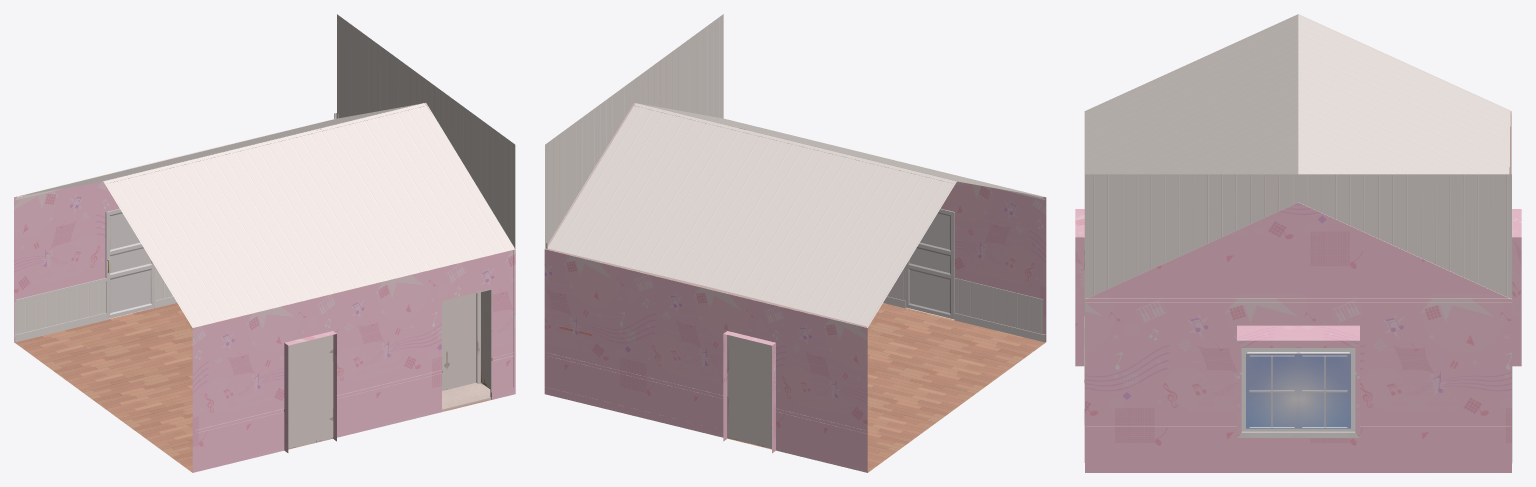
Rendered from houres_low_3.fbx.
3 views of the same model, side by side, from view 1: azimuth 30°, elevation 25°; view 2: azimuth 150°, elevation 25°; view 3: azimuth 270°, elevation 25° (orthographic). The views are drawn at different scales.
Visible parts, largest first — view 1: BedroomSleepClocks2; view 2: BedroomSleepClocks2; view 3: BedroomSleepClocks2.
Part boxes in pixels (left/top/right/bottom): BedroomSleepClocks2: left=14, top=14, right=515, bottom=472; BedroomSleepClocks2: left=544, top=14, right=1046, bottom=472; BedroomSleepClocks2: left=1075, top=14, right=1521, bottom=472.
Size of the model in its own units: 1022 by 694 by 940.
18 materials, 18 textured.
